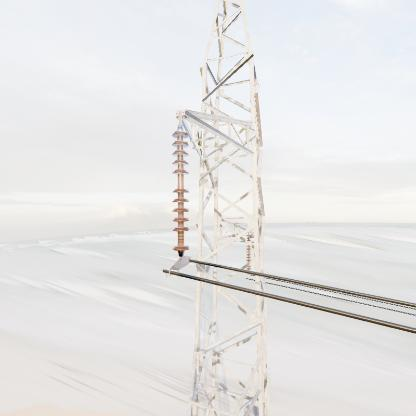insulator: (171, 126, 193, 263)
